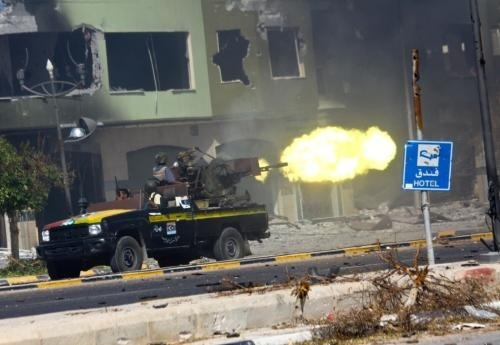fire: (279, 124, 397, 180)
